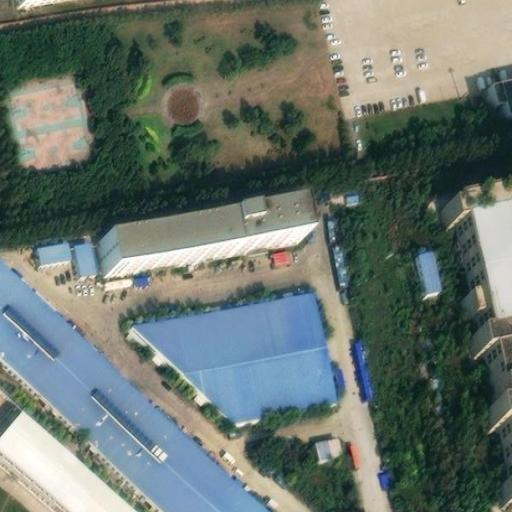building: (131, 295, 334, 428), (446, 190, 512, 508), (98, 208, 299, 283), (61, 321, 167, 419), (0, 428, 115, 512), (322, 212, 353, 291), (346, 335, 377, 402), (172, 421, 216, 462), (409, 246, 441, 297), (484, 76, 512, 120), (67, 237, 97, 278), (32, 238, 71, 265), (310, 433, 342, 463), (343, 435, 364, 468), (374, 464, 397, 489), (341, 188, 361, 206)
